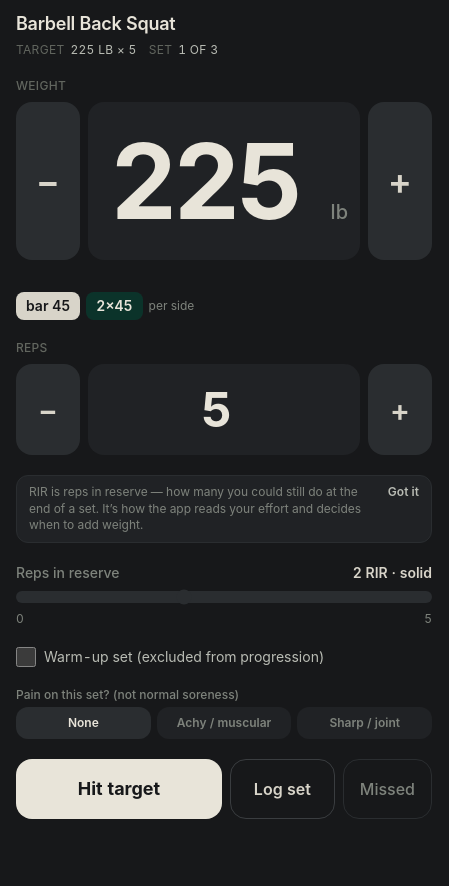
LogSet — exercise pairing (PAIRING.md) › the rest timer names the exercise the rest leads into
Click the button "Hit target". click: x=119, y=788
box: [16,758,222,818]
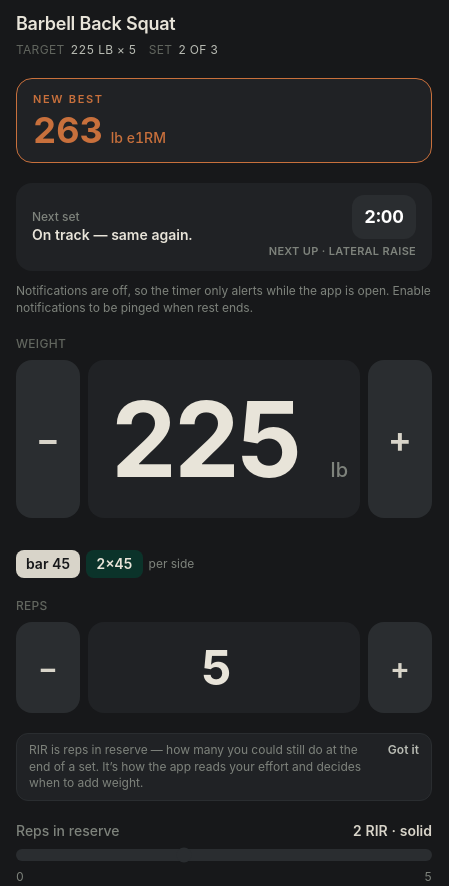
Now the text "next up · Lateral Raise" is shown, box [269,242,416,259]
